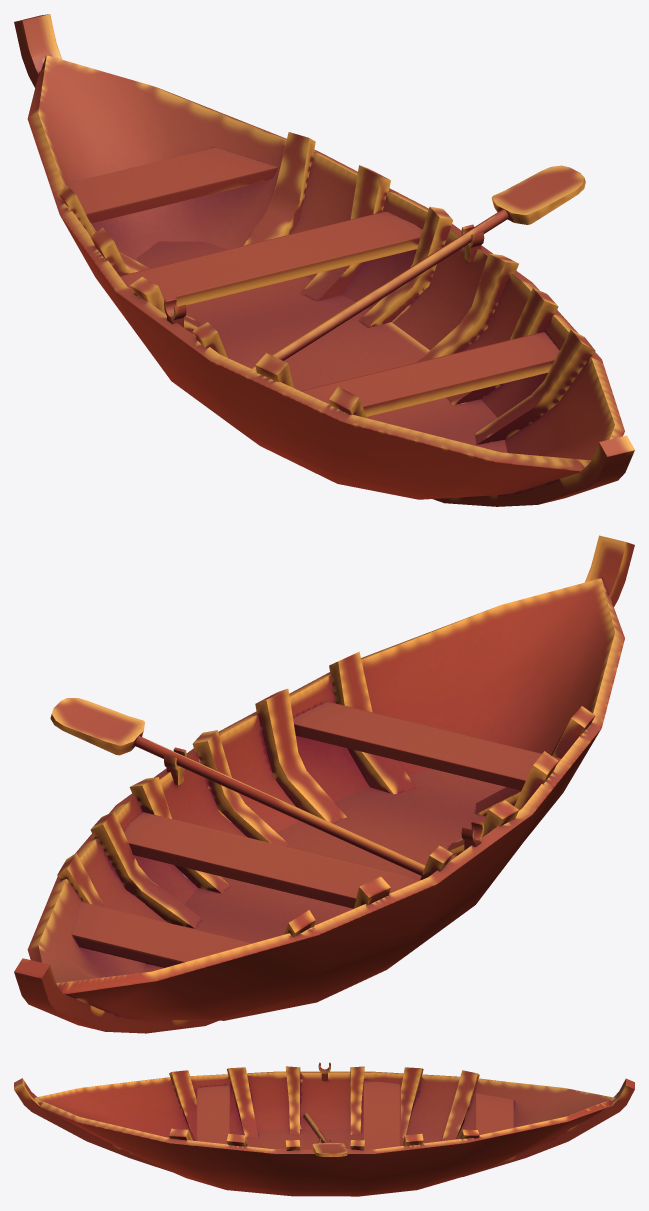
Rendered from boat.fbx.
3 views of the same model, one above another, from view 1: azimuth 30°, elevation 25°; view 2: azimuth 150°, elevation 25°; view 3: azimuth 270°, elevation 25° (orthographic). The views are drawn at different scales.
Visible parts, largest first — view 1: boat, paddel; view 2: boat, paddel; view 3: boat, paddel.
Part boxes in pixels (<box>): boat: <box>14,14,634,506</box>; paddel: <box>251,165,585,370</box>; boat: <box>14,535,634,1033</box>; paddel: <box>50,698,425,875</box>; boat: <box>14,1062,634,1196</box>; paddel: <box>303,1113,347,1156</box>.
Bounding box in the file's own units: 1.77 × 0.8194 × 4.3.
